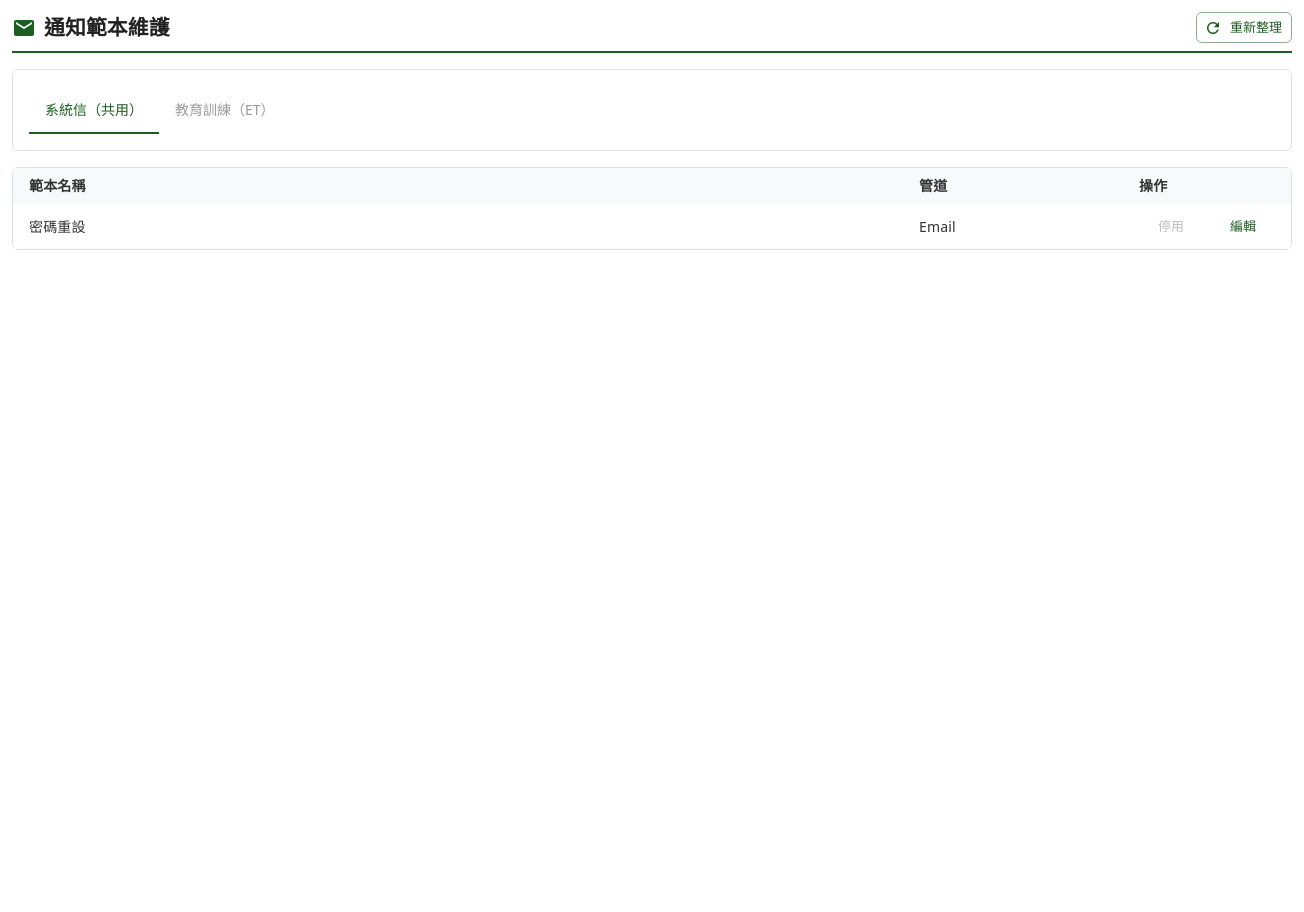
Test case: TemplatesPage 通知範本維護（條列 + 編輯展開） › 編輯表單標題只顯示中文名稱，不含英文範本代碼
Click the tab "教育訓練（ET）" at (225,110), box [159, 86, 291, 134]
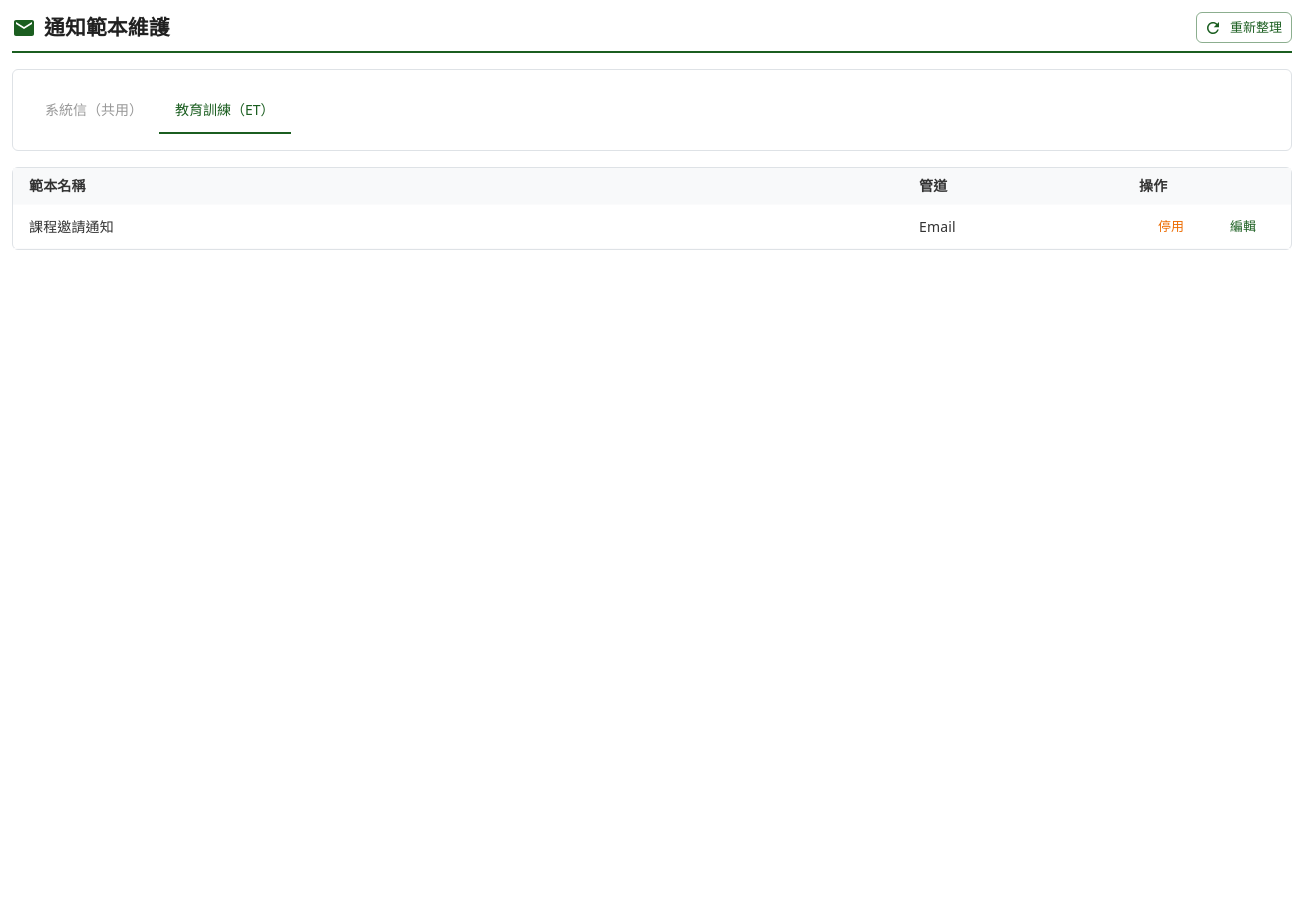
Click the button "編輯" at (1243,227), box [1211, 211, 1275, 242]
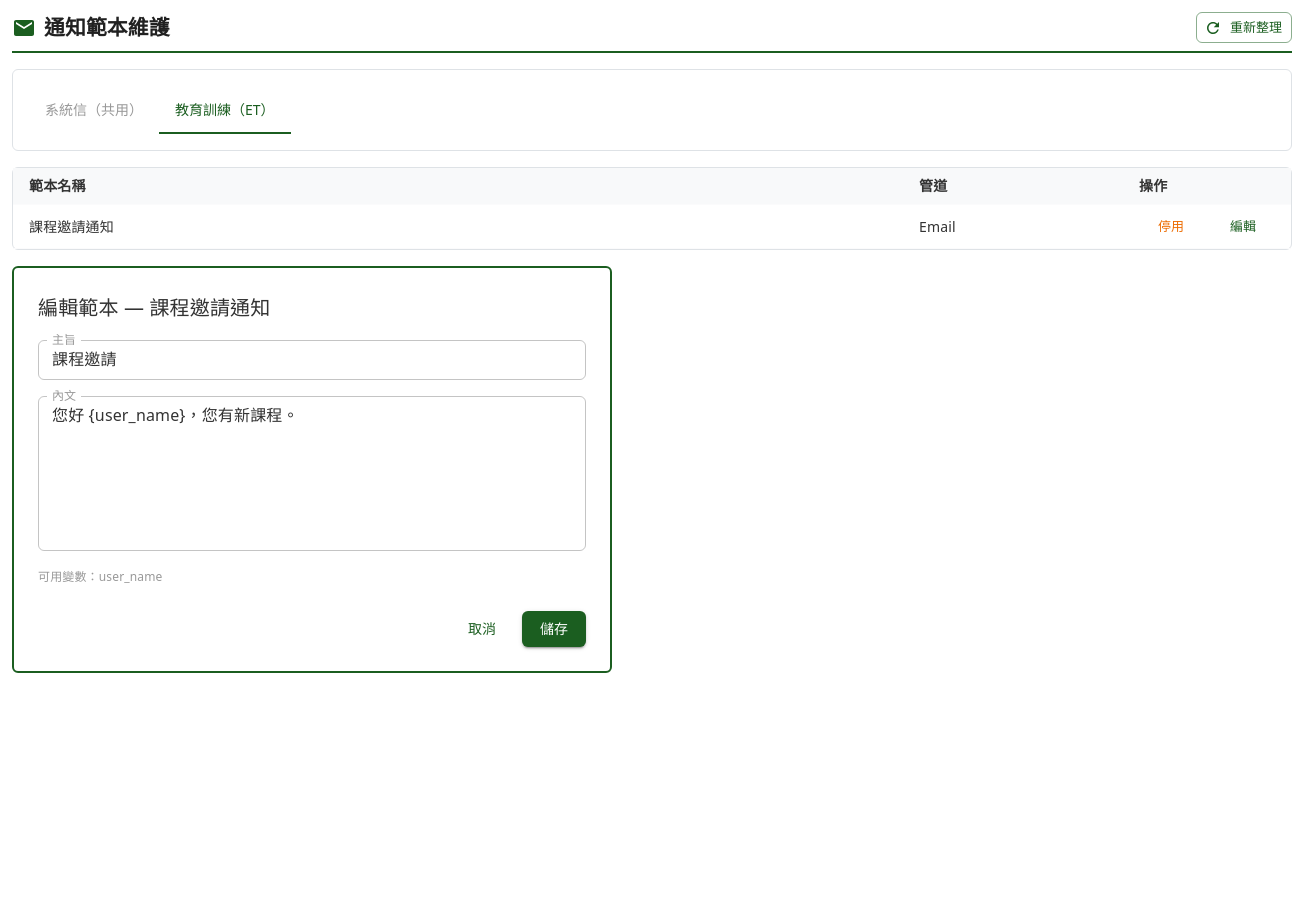
Expected: the heading "編輯範本 — 課程邀請通知" is shown, [38, 294, 270, 321]
